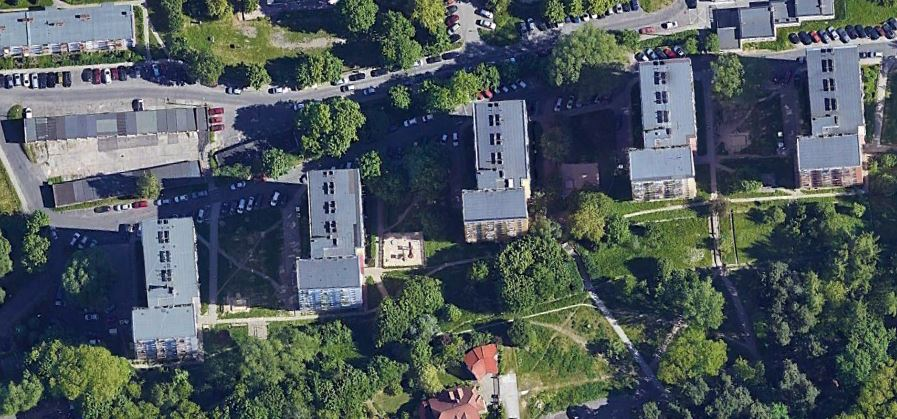block of flats: (123, 208, 210, 362), (286, 160, 370, 317), (458, 94, 536, 249), (793, 37, 867, 194), (626, 55, 699, 205), (1, 1, 137, 58)
garage: (49, 157, 206, 214), (15, 103, 216, 146)
